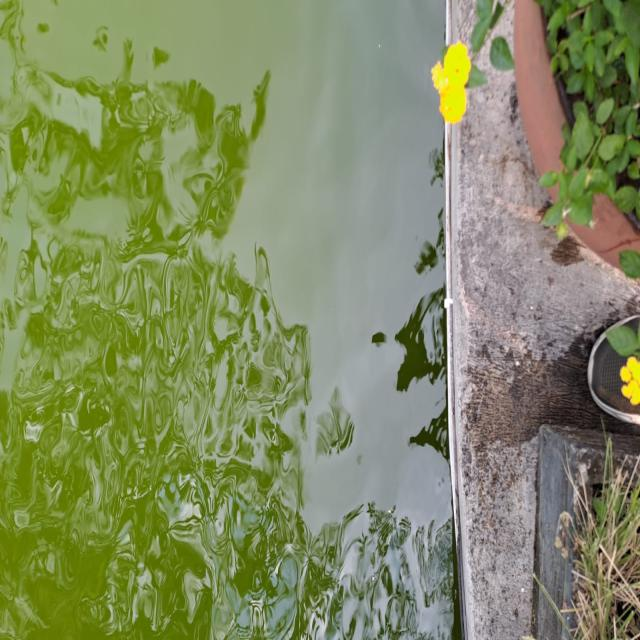Ponds: (1, 1, 523, 640)
